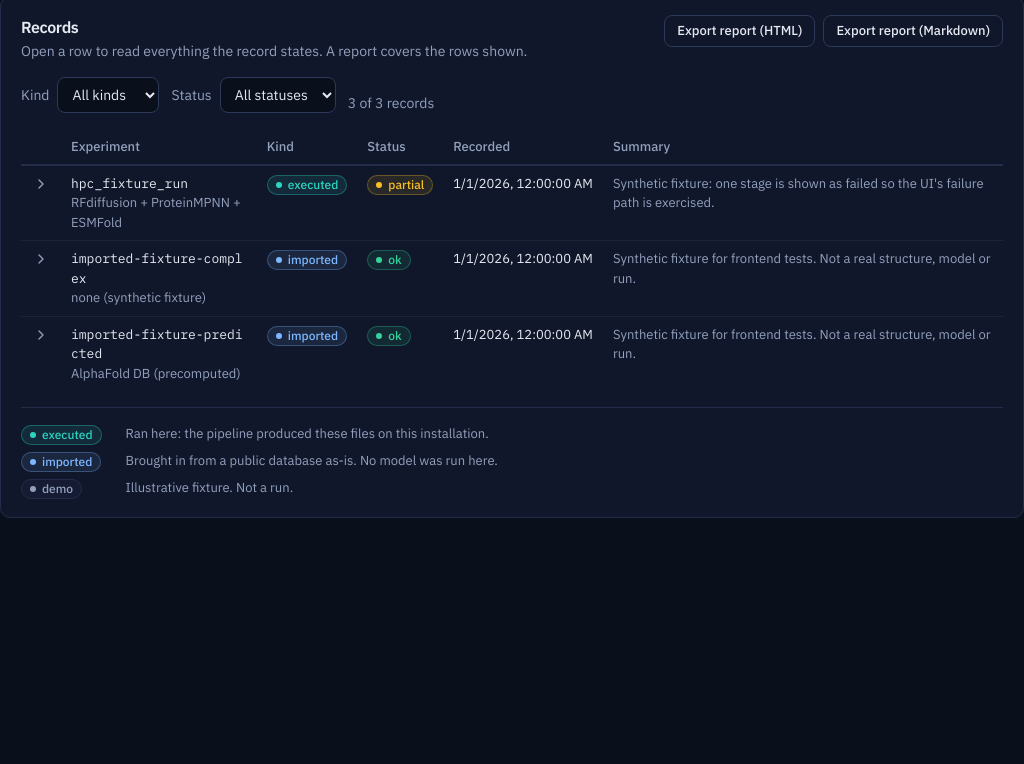
it: ExperimentHistory › opens a record to show its stages, its metrics with definitions, and what was not measured
Click the button named "Show details of hpc_fixture_run" at (41, 184), box [31, 174, 51, 194]
(page scrolled)
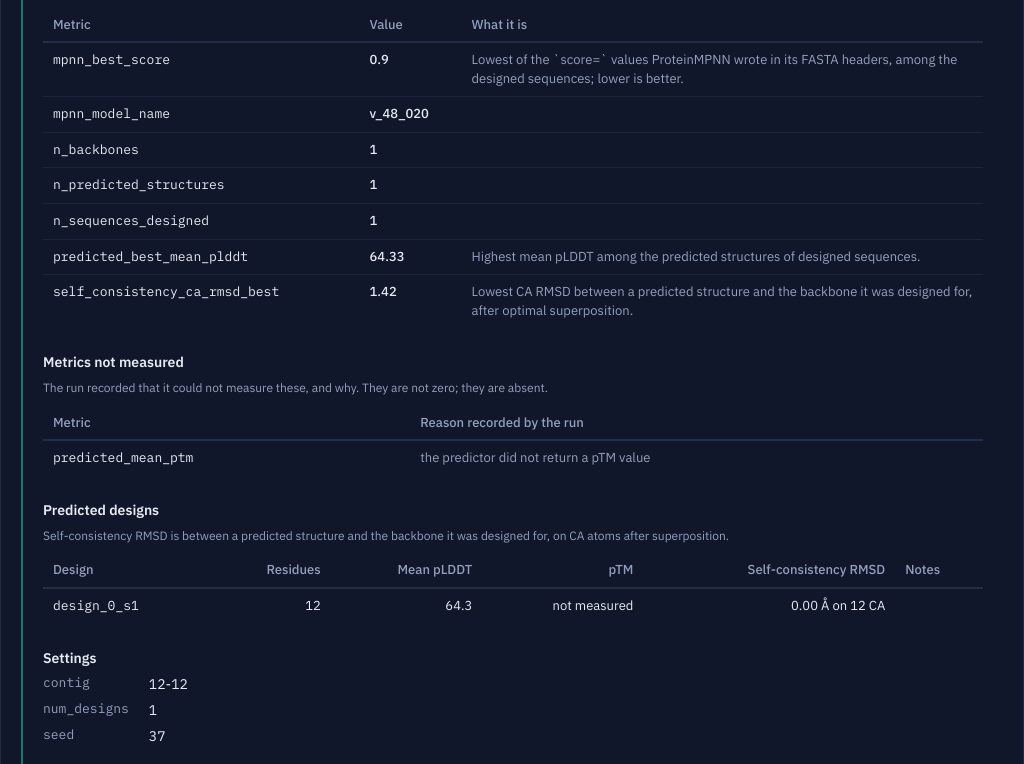
Check: the text "Lowest of the `score=` values ProteinMPNN wrote in its FASTA headers, among the designed sequences; lower is better." is shown, box [472, 51, 957, 87]
Check: the text "Highest mean pLDDT among the predicted structures of designed sequences." is shown, box [462, 239, 983, 275]
Check: the text "Lowest CA RMSD between a predicted structure and the backbone it was designed for, after optimal superposition." is shown, box [472, 283, 972, 319]
